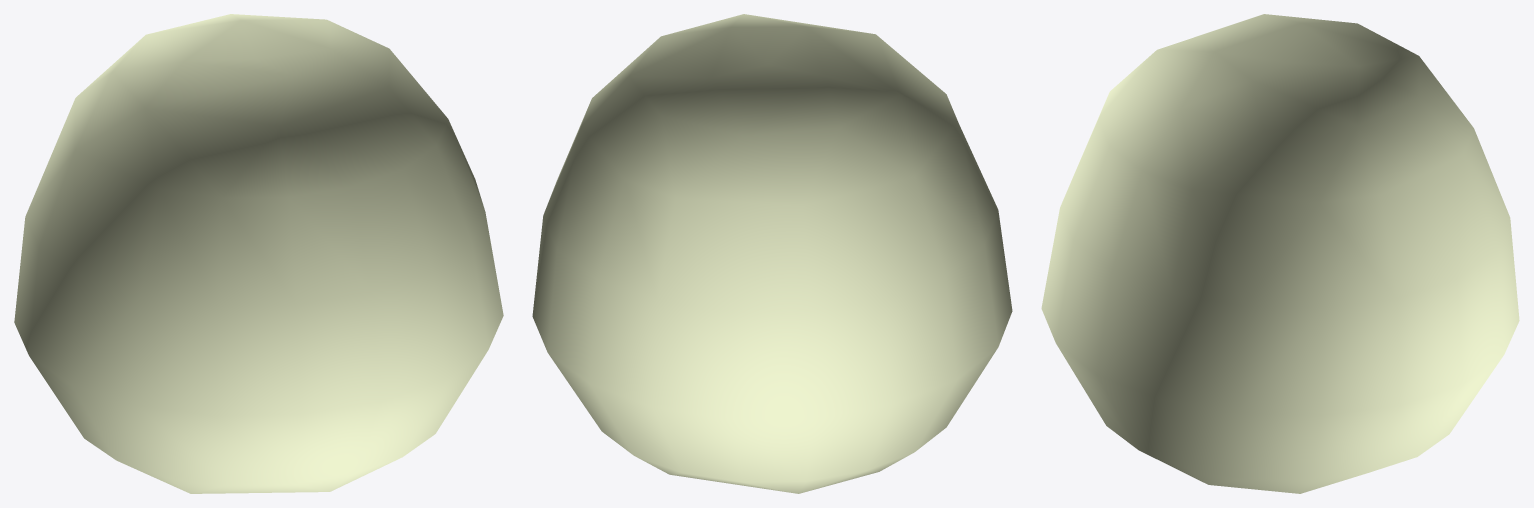
The model's file is FP_orange.FBX.
The picture shows the model from 3 angles, left to right: view 1: azimuth 30°, elevation 25°; view 2: azimuth 150°, elevation 25°; view 3: azimuth 270°, elevation 25°; orthographic projection.
Parts seen in each view (by area): view 1: FP_orange; view 2: FP_orange; view 3: FP_orange.
Part boxes in pixels (<box>): FP_orange: <box>14,14,503,493</box>; FP_orange: <box>532,14,1012,493</box>; FP_orange: <box>1041,14,1519,493</box>.
Size of the model in its own units: 0.0562 by 0.0516 by 0.0567.
